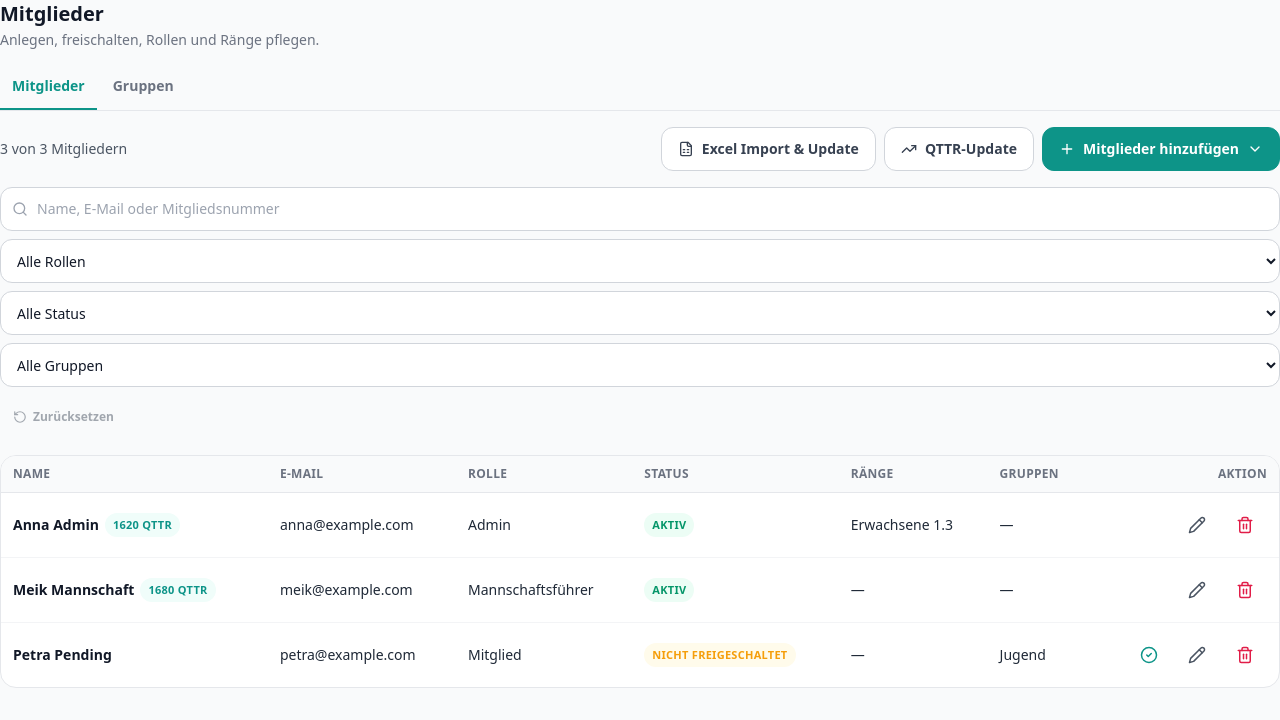
Test case: MembersPage › verlangt im Anlegen-Dialog einen Namen
The image size is (1280, 720).
Click the button "Mitglieder hinzufügen" at (1161, 149), box [1042,127,1279,171]
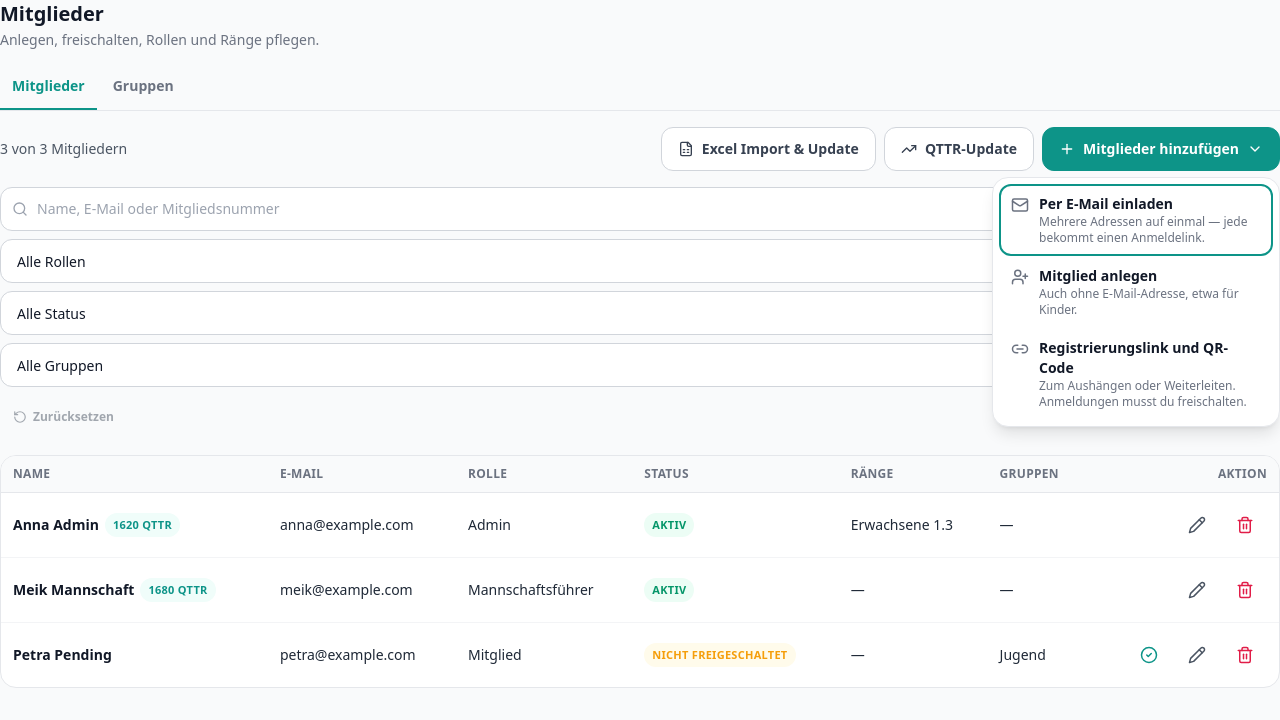
Click the menu item "Mitglied anlegen Auch ohne E-Mail-Adresse, etwa für Kinder." at (1136, 292), box [999,256,1273,328]
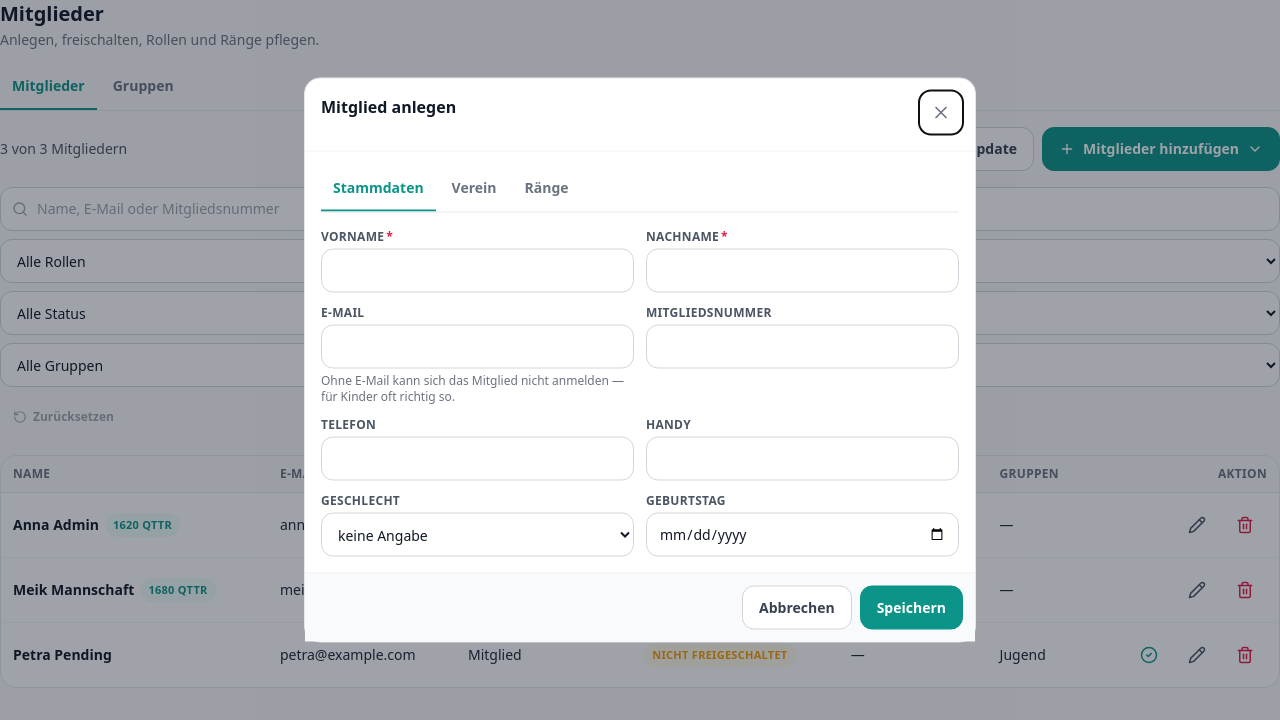
Click the button "Speichern" at (911, 608), box [860,586,963,630]
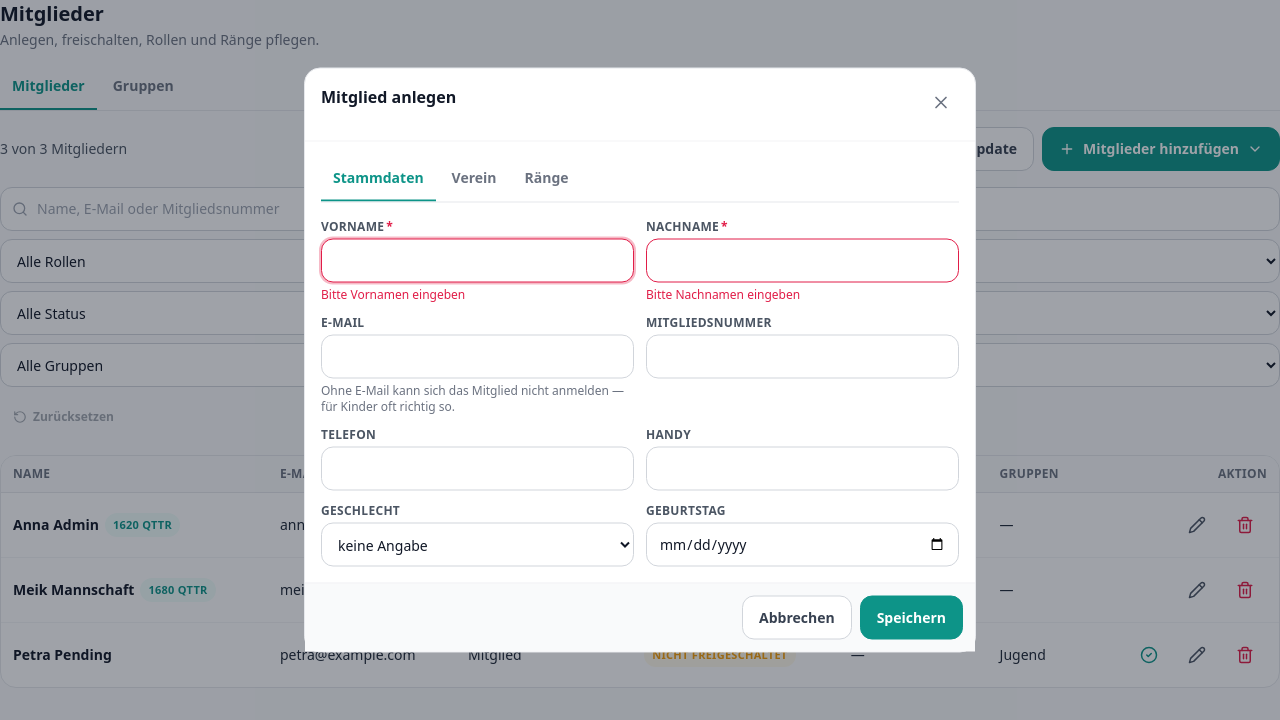
Expected: the text "Bitte Vornamen eingeben" is shown, [321,286,465,302]
